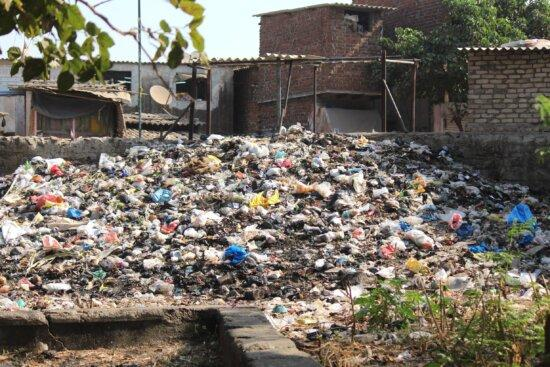garbage: (1, 122, 549, 301)
